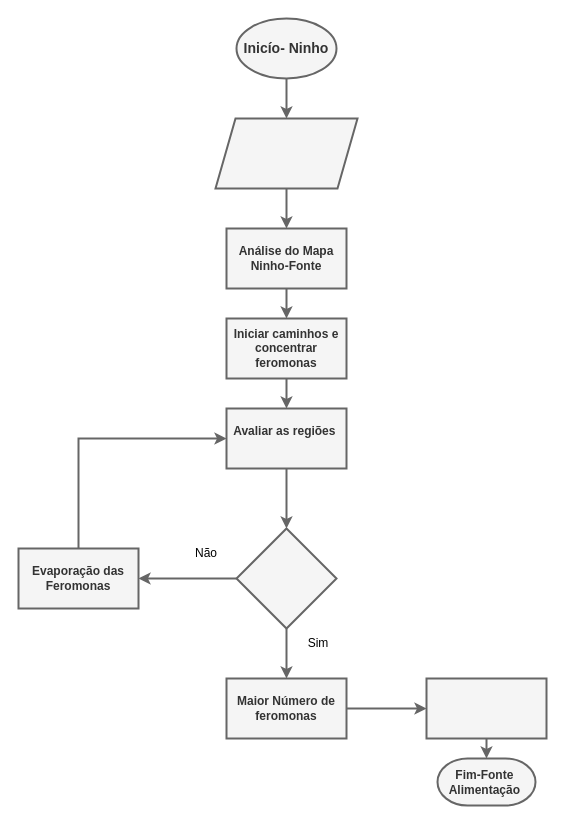
This 564x823 diagram has some shape labels left out. The centre of each missing label's shape, as x and y in pixels:
Caminho = Min: the point at 286,578
Melhor Localização: the point at 486,708
Valores iniciais da População: the point at 286,153
